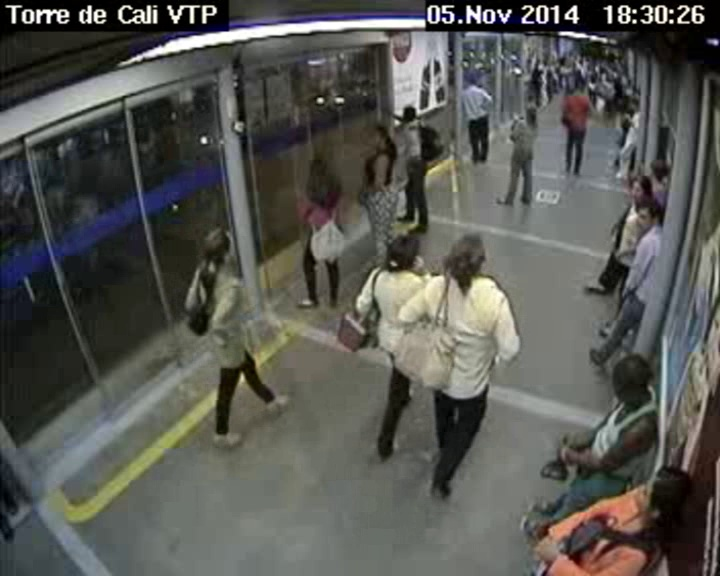person: (639, 451, 694, 523), (604, 354, 660, 402), (448, 234, 496, 285), (189, 222, 237, 267), (382, 228, 425, 274), (629, 197, 666, 235), (302, 157, 332, 189), (641, 155, 676, 178), (627, 176, 651, 205), (368, 127, 389, 151), (395, 103, 417, 124), (462, 72, 482, 90), (524, 100, 539, 117), (630, 99, 643, 110), (573, 81, 584, 93)
